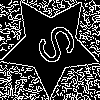S: (25, 20, 81, 75)
